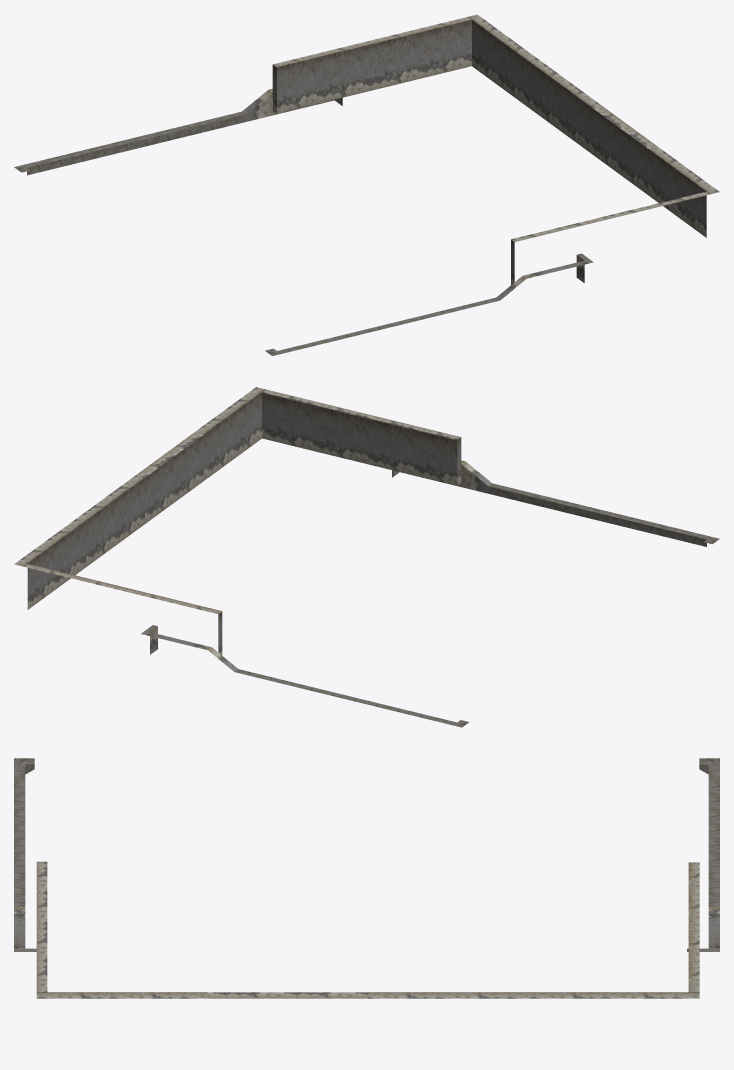
File: wall.glb
The picture shows the model from 3 angles, top to bottom: view 1: azimuth 30°, elevation 25°; view 2: azimuth 150°, elevation 25°; view 3: azimuth 270°, elevation 25°; orthographic projection. The views are drawn at different scales.
Visible parts, largest first — view 1: BackWall, SeaWall; view 2: BackWall, SeaWall; view 3: BackWall, SeaWall.
Part boxes in pixels (x1,y1,x2,y2): BackWall: (272, 14, 719, 284); SeaWall: (14, 82, 593, 355); BackWall: (14, 387, 461, 659); SeaWall: (141, 460, 719, 727); BackWall: (36, 861, 699, 998); SeaWall: (14, 758, 719, 951).
Bounding box in the file's own units: 90.3 × 10.27 × 88.59.
Materials: 1 (1 with a texture image).
